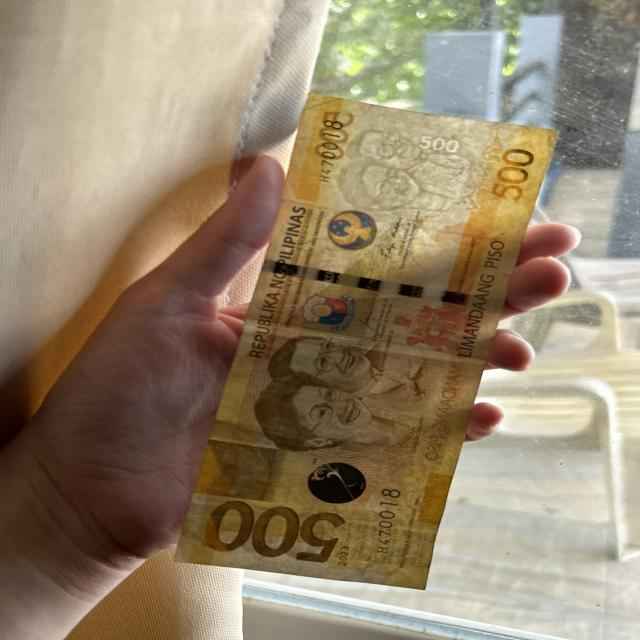concealed_value: (204, 447, 277, 497)
optically_variable_device: (305, 462, 367, 502)
see_through_mark: (462, 134, 503, 202)
value_watermark: (419, 131, 463, 156)
watermark: (327, 124, 491, 224)
